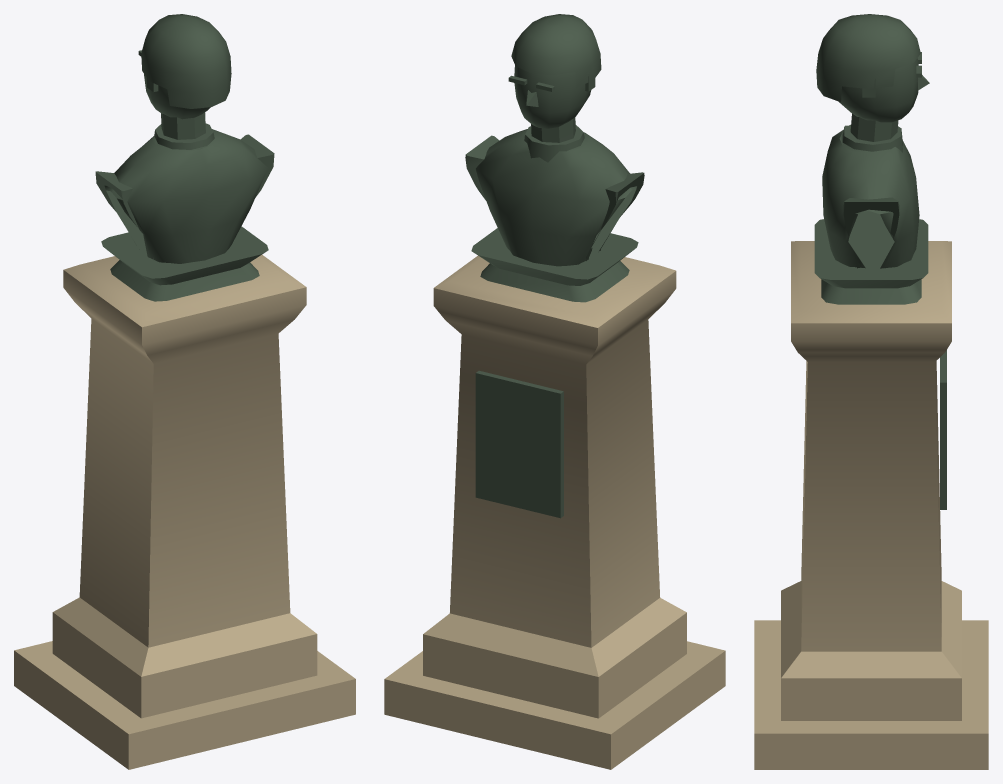
File: mon_bust.glb
3 renders of one model, left to right at view 1: azimuth 30°, elevation 25°; view 2: azimuth 150°, elevation 25°; view 3: azimuth 270°, elevation 25°, orthographic. The views are drawn at different scales.
Visible parts, largest first — view 1: mon_bust; view 2: mon_bust; view 3: mon_bust.
Boxes of the visible parts, x1=… form: mon_bust: x1=14, y1=14, x2=355, y2=769; mon_bust: x1=384, y1=14, x2=725, y2=769; mon_bust: x1=754, y1=14, x2=988, y2=769.
Size of the model in its own units: 0.8 by 2.29 by 0.7.
